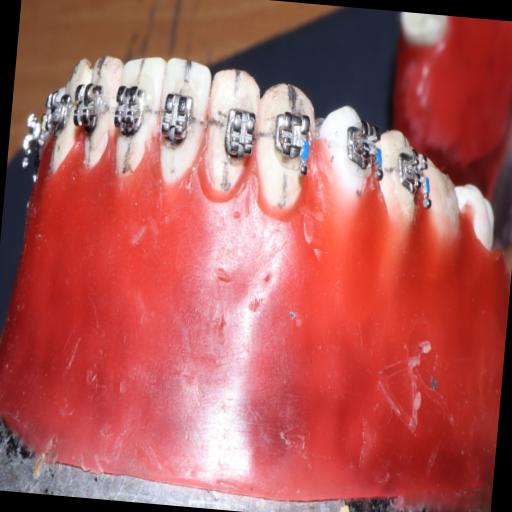correct_brace: (264, 106, 315, 188), (156, 86, 200, 152)
incorrect_brace: (198, 56, 264, 210), (216, 103, 260, 173)
